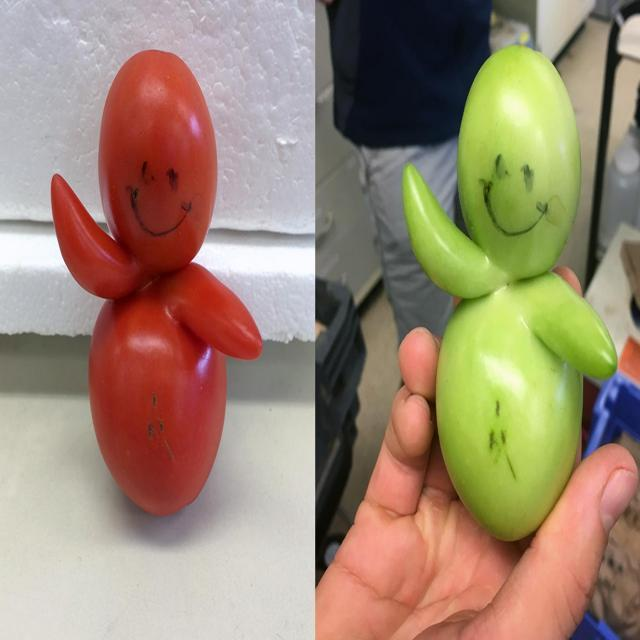TOMATO: (90, 275, 225, 516), (96, 45, 216, 277), (48, 148, 125, 302), (168, 255, 268, 356)
